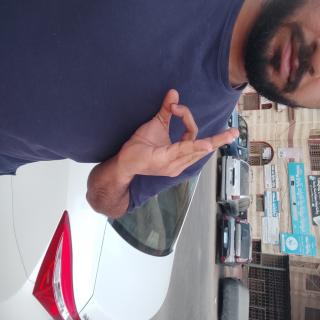Space: (62, 98, 140, 278)
